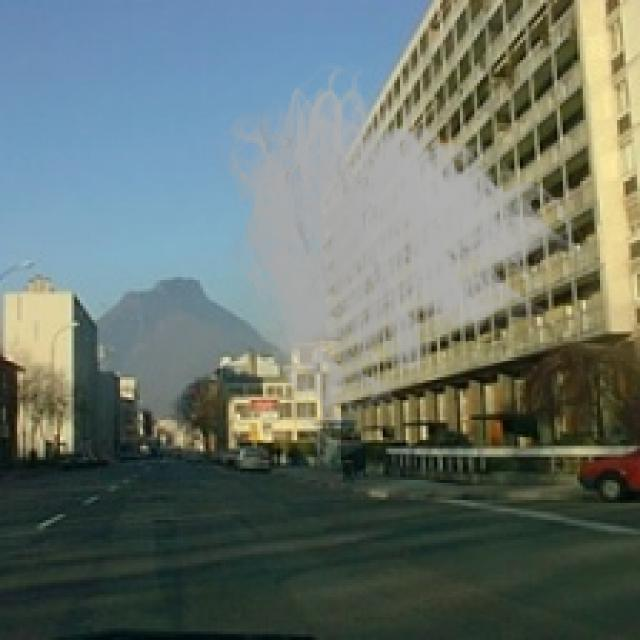smoke: (206, 51, 583, 463)
